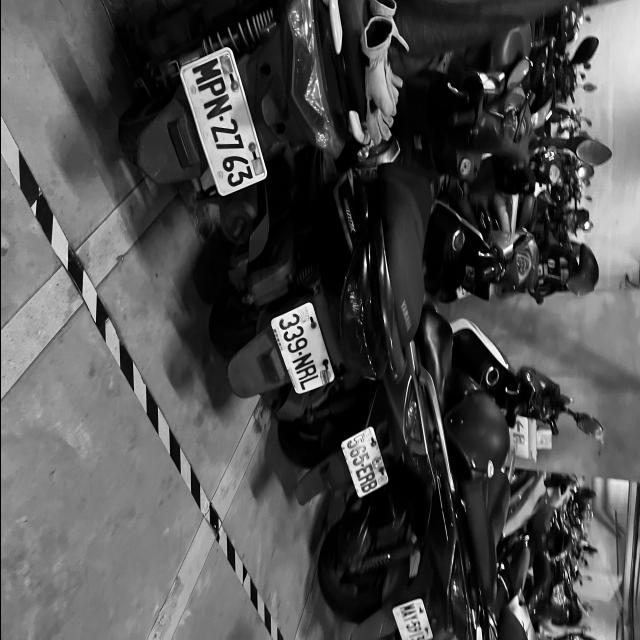-: (218, 114, 225, 124), (296, 350, 302, 356), (360, 463, 363, 468)
2: (208, 117, 239, 144)
3: (224, 165, 254, 190), (276, 311, 302, 333), (281, 324, 305, 344)
5: (345, 434, 365, 451), (351, 452, 370, 468)
6: (219, 151, 249, 174), (348, 443, 367, 459)
7: (214, 132, 245, 153)
9: (285, 335, 310, 356)
B: (359, 478, 378, 494)
E: (354, 462, 373, 480)
L: (297, 373, 318, 392)
M: (190, 56, 222, 86)
N: (202, 92, 233, 122), (291, 351, 314, 372)
R: (294, 363, 317, 382), (357, 470, 376, 487)
plate: (180, 50, 265, 197), (273, 303, 333, 394), (342, 429, 386, 496), (196, 74, 228, 102)
